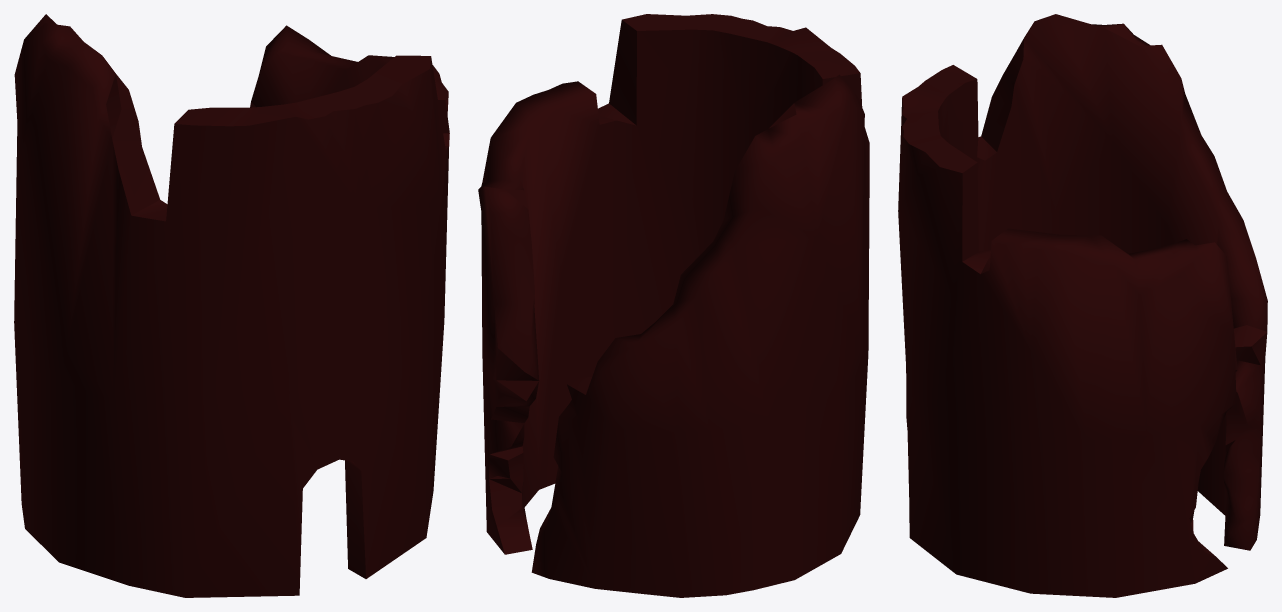
The model's file is UCX_Castle_Tower_ALT2.fbx.
3 views of the same model, side by side, from view 1: azimuth 30°, elevation 25°; view 2: azimuth 150°, elevation 25°; view 3: azimuth 270°, elevation 25° (orthographic). The views are drawn at different scales.
Parts seen in each view (by area): view 1: UCX_Castle_Tower_ALT2; view 2: UCX_Castle_Tower_ALT2; view 3: UCX_Castle_Tower_ALT2.
Part boxes in pixels (x1,y1,x2,y2): UCX_Castle_Tower_ALT2: (14,14,449,597); UCX_Castle_Tower_ALT2: (478,14,869,597); UCX_Castle_Tower_ALT2: (898,14,1267,597).
Bounding box in the file's own units: 895 × 1195 × 899.
